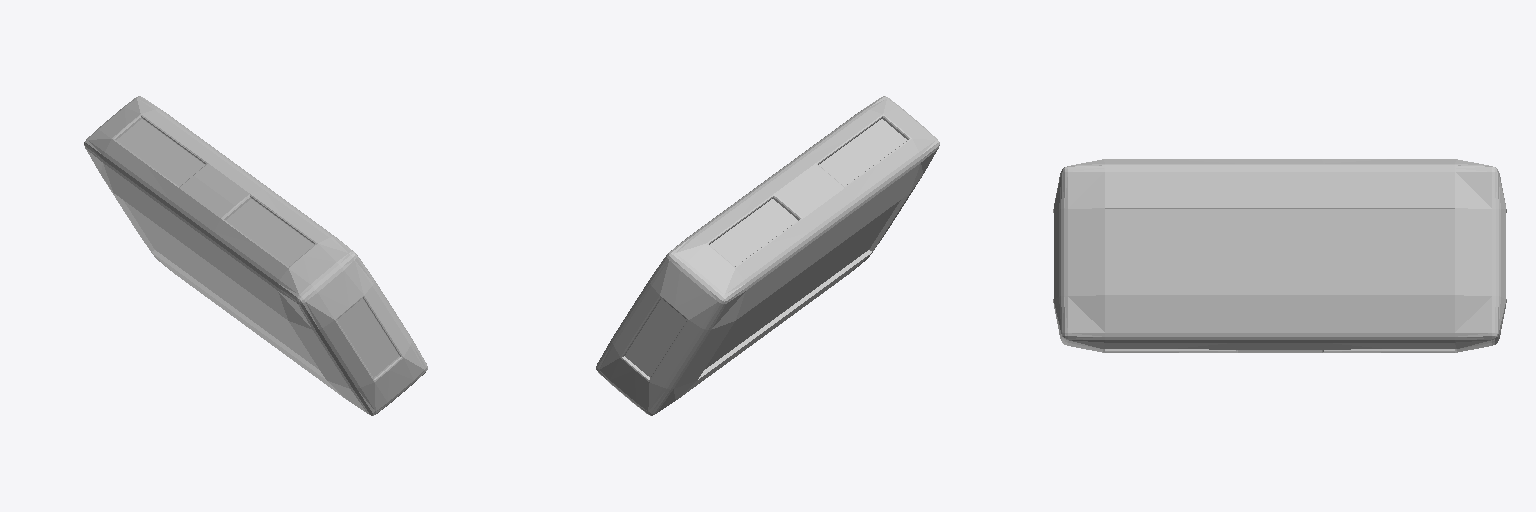
File: Case.obj
3 views of the same model, side by side, from view 1: azimuth 30°, elevation 25°; view 2: azimuth 150°, elevation 25°; view 3: azimuth 270°, elevation 25° (orthographic).
Parts seen in each view (by area): view 1: Cube.011_Cube.003; view 2: Cube.011_Cube.003; view 3: Cube.011_Cube.003.
Part boxes in pixels (x1,y1,x2,y2): Cube.011_Cube.003: (84,96,427,415); Cube.011_Cube.003: (596,96,939,415); Cube.011_Cube.003: (1053,159,1506,352).
Bounding box in the file's own units: 3.49 × 4.32 × 10.38.